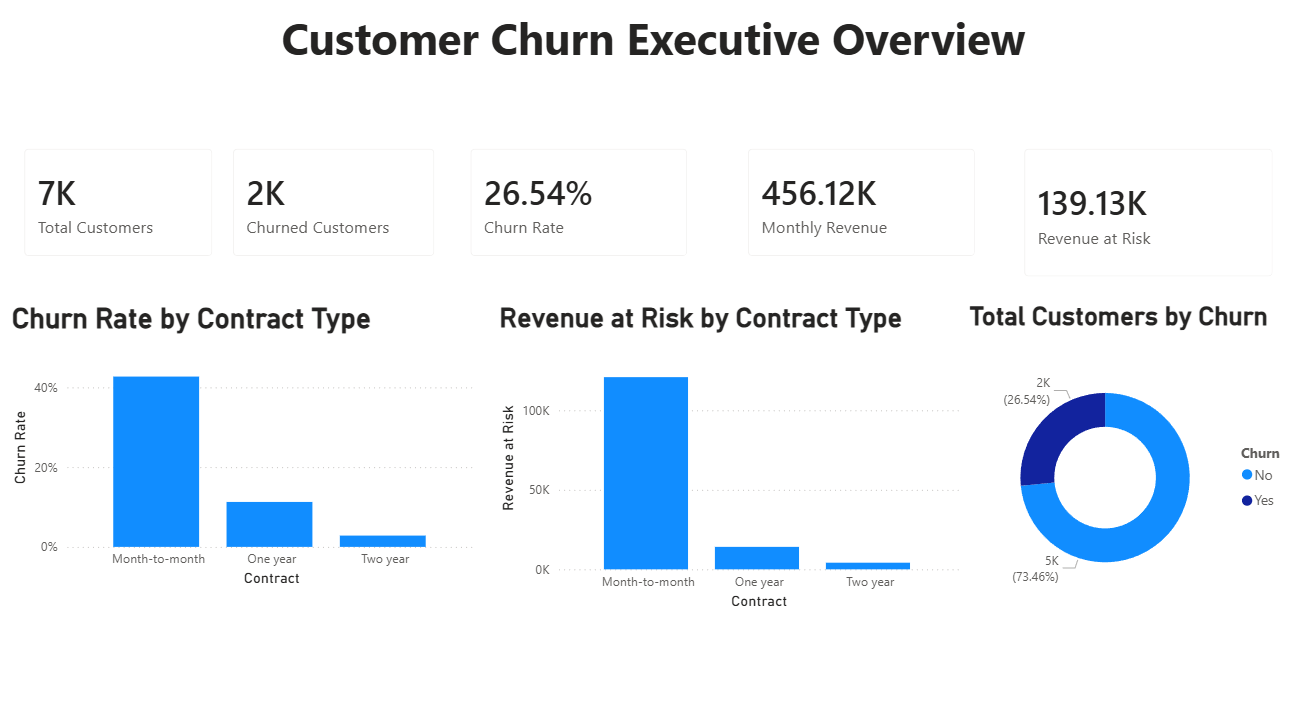

This screenshot's page, from the dashboard's own definition file:
{"tool":"powerbi","page":{"name":"Executive Overview","canvas":[1280,720],"ordinal":0},"visuals":[{"type":"cardVisual","fields":{"Data":["customer_churn_powerbi.Total Customers"]},"box":[9.6,140,218.2,140],"z":0},{"type":"cardVisual","fields":{"Data":["customer_churn_powerbi.Churned Customers"]},"box":[214.1,140,231.9,140],"z":1000},{"type":"cardVisual","fields":{"Data":["customer_churn_powerbi.Churn Rate"]},"box":[446,140,247,140],"z":2000},{"type":"cardVisual","fields":{"Data":["customer_churn_powerbi.Monthly Revenue"]},"box":[717.7,140,256.6,140],"z":3000},{"type":"cardVisual","fields":{"Data":["customer_churn_powerbi.Revenue at Risk"]},"box":[988,140,277.2,159.2],"z":4000},{"type":"textbox","box":[34.3,13.7,1215.8,74.1],"z":5000},{"type":"clusteredColumnChart","title":"Churn Rate by Contract Type","fields":{"Category":["customer_churn_powerbi.Contract"],"Y":["customer_churn_powerbi.Churn Rate"]},"box":[9.6,306,463.8,284],"z":6000},{"type":"clusteredColumnChart","title":"Revenue at Risk by Contract Type","fields":{"Category":["customer_churn_powerbi.Contract"],"Y":["customer_churn_powerbi.Revenue at Risk"]},"box":[487.1,306,459.7,306],"z":7000},{"type":"donutChart","fields":{"Category":["customer_churn_powerbi.Churn"],"Y":["customer_churn_powerbi.Total Customers"]},"box":[946.8,306,333.4,317],"z":8000}]}

Visuals, with their boxes in screenshot pixels (x1, y1, x2, y2), scaled from the page's 1280x720 canvas onto the 1294x709 screenshot:
cardVisual - customer_churn_powerbi.Total Customers: Rect(10, 138, 230, 276)
cardVisual - customer_churn_powerbi.Churned Customers: Rect(216, 138, 451, 276)
cardVisual - customer_churn_powerbi.Churn Rate: Rect(451, 138, 701, 276)
cardVisual - customer_churn_powerbi.Monthly Revenue: Rect(726, 138, 985, 276)
cardVisual - customer_churn_powerbi.Revenue at Risk: Rect(999, 138, 1279, 295)
textbox: Rect(35, 13, 1264, 86)
"Churn Rate by Contract Type" clusteredColumnChart: Rect(10, 301, 479, 581)
"Revenue at Risk by Contract Type" clusteredColumnChart: Rect(492, 301, 957, 603)
donutChart - customer_churn_powerbi.Churn x customer_churn_powerbi.Total Customers: Rect(957, 301, 1293, 613)
